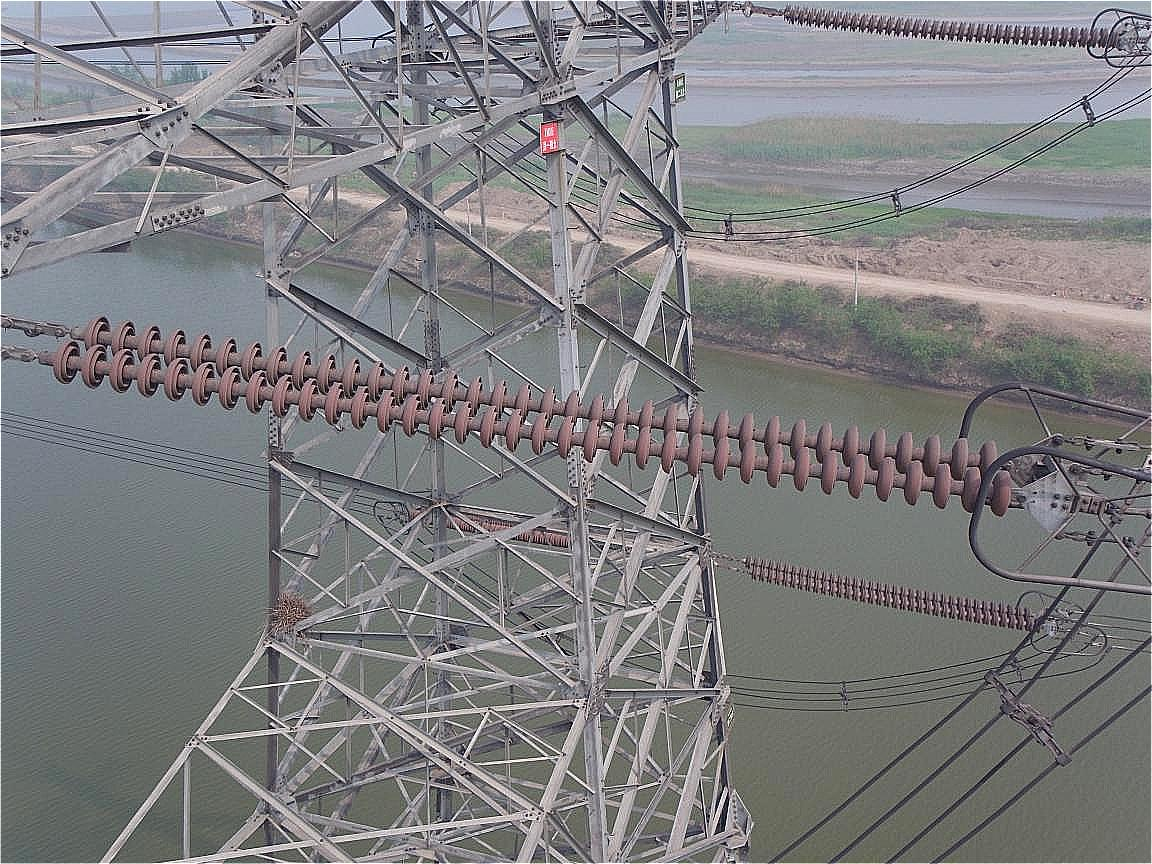insultor1: (40, 301, 1035, 524)
insultor2: (737, 540, 1060, 646)
